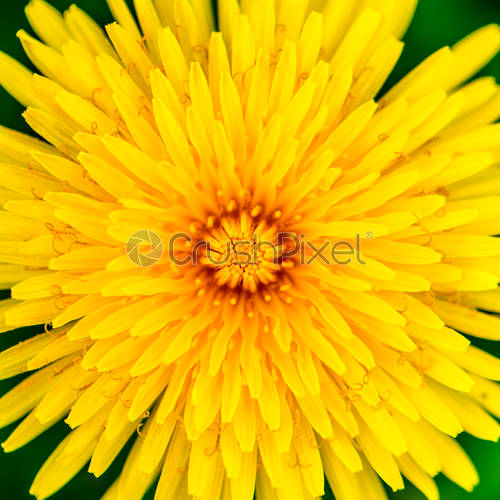dandelion: (19, 24, 475, 499)
